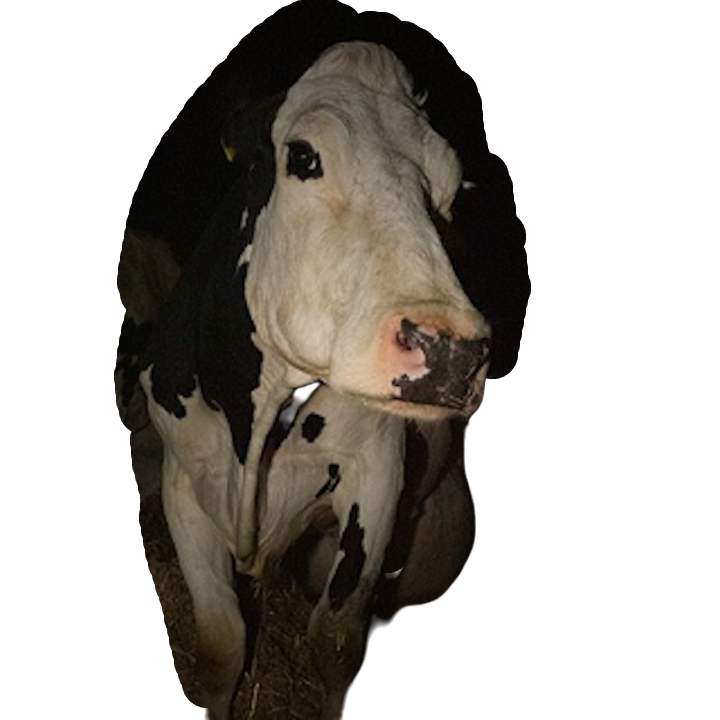Cow: (117, 3, 492, 715)
